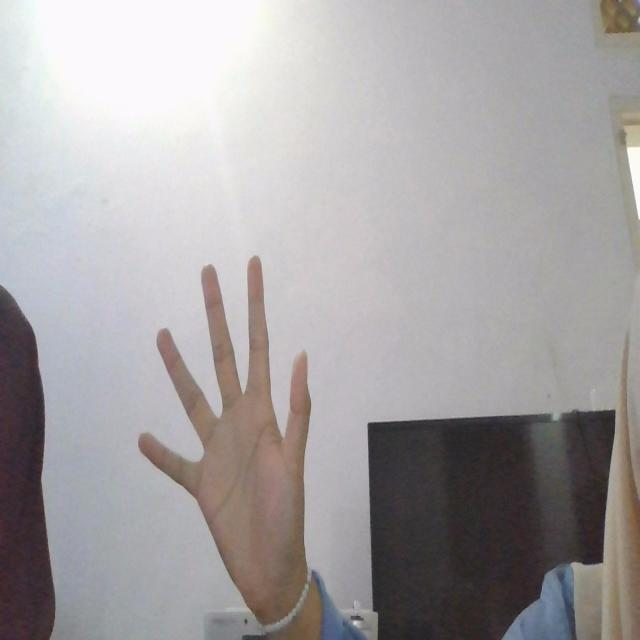hand: (140, 254, 313, 640)
